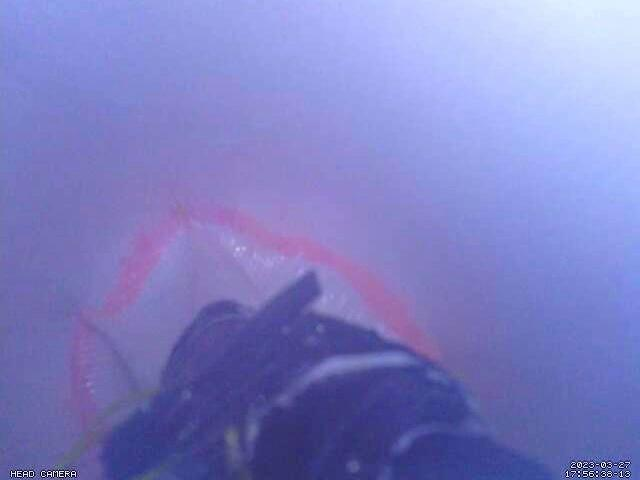head: (67, 197, 447, 463)
